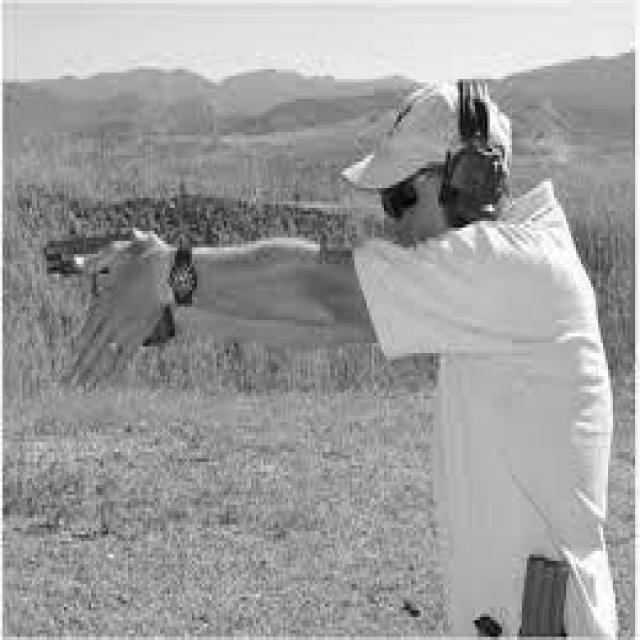gun: (44, 228, 176, 344)
